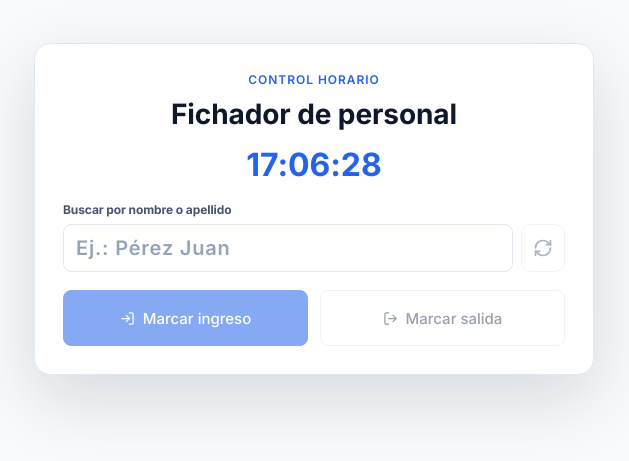
it: TimeClockPage standalone (F1) — flujo, errores e idempotencia › 403 (dispositivo deshabilitado) en la búsqueda: mensaje de negocio, sin detalle técnico
This screenshot has width=629, height=461.
Type "Gomez" into the field labelled "Buscar por nombre o apellido" at (288, 248), box [63, 224, 513, 272]
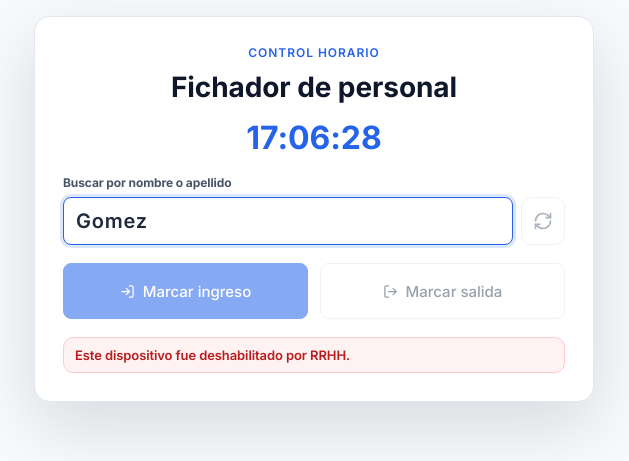
Expected: the text "Este dispositivo fue deshabilitado por RRHH." is shown, [63, 337, 565, 373]
